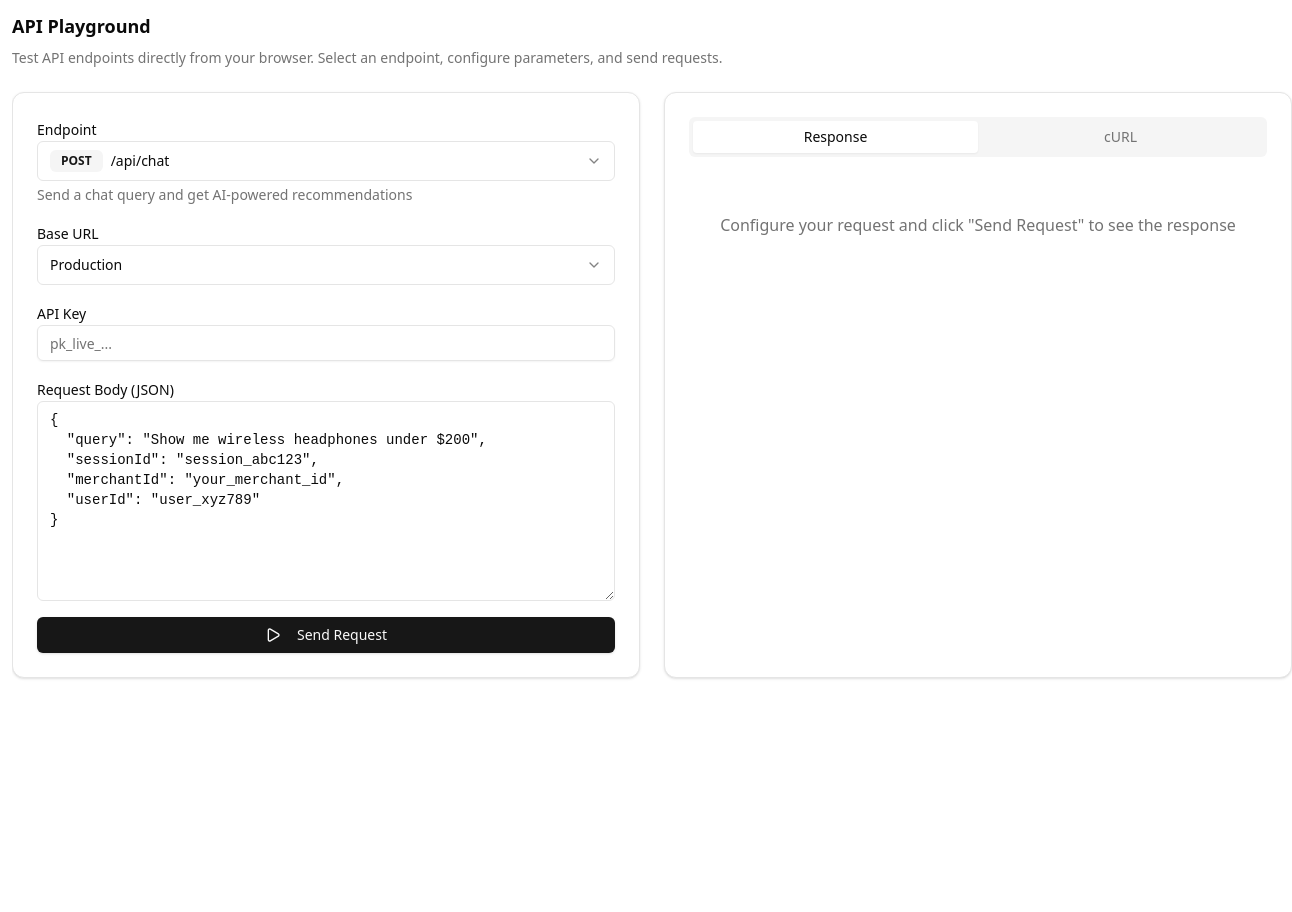
Test: ApiPlayground › handles successful API request
The image size is (1292, 912).
Fill in API key
Type "pk_test_123" into the password field labelled "API Key" at (326, 343), box 37,325 -> 615,361
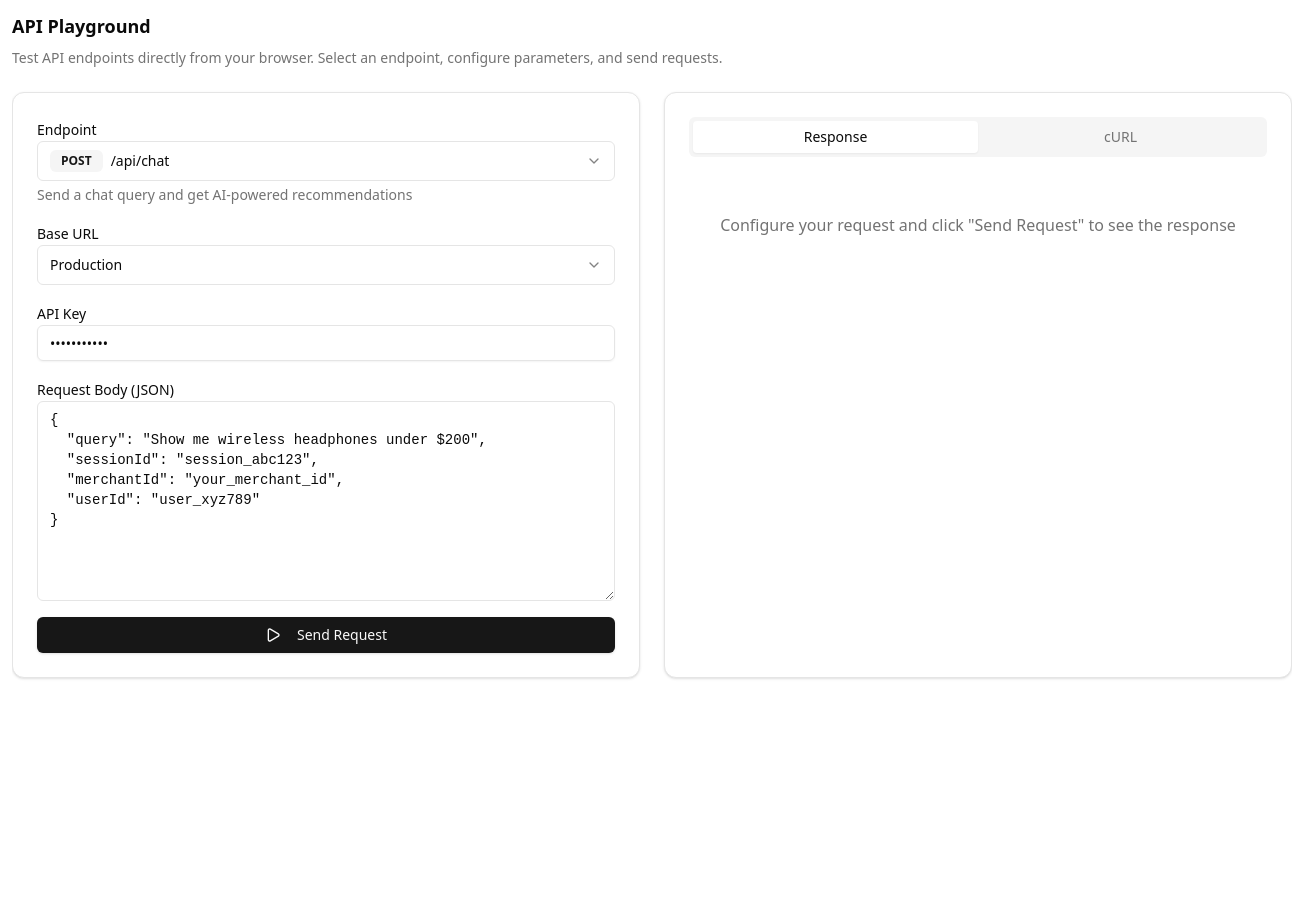
Click send request
Click the button "Send Request" at (326, 635), box 37,617 -> 615,653
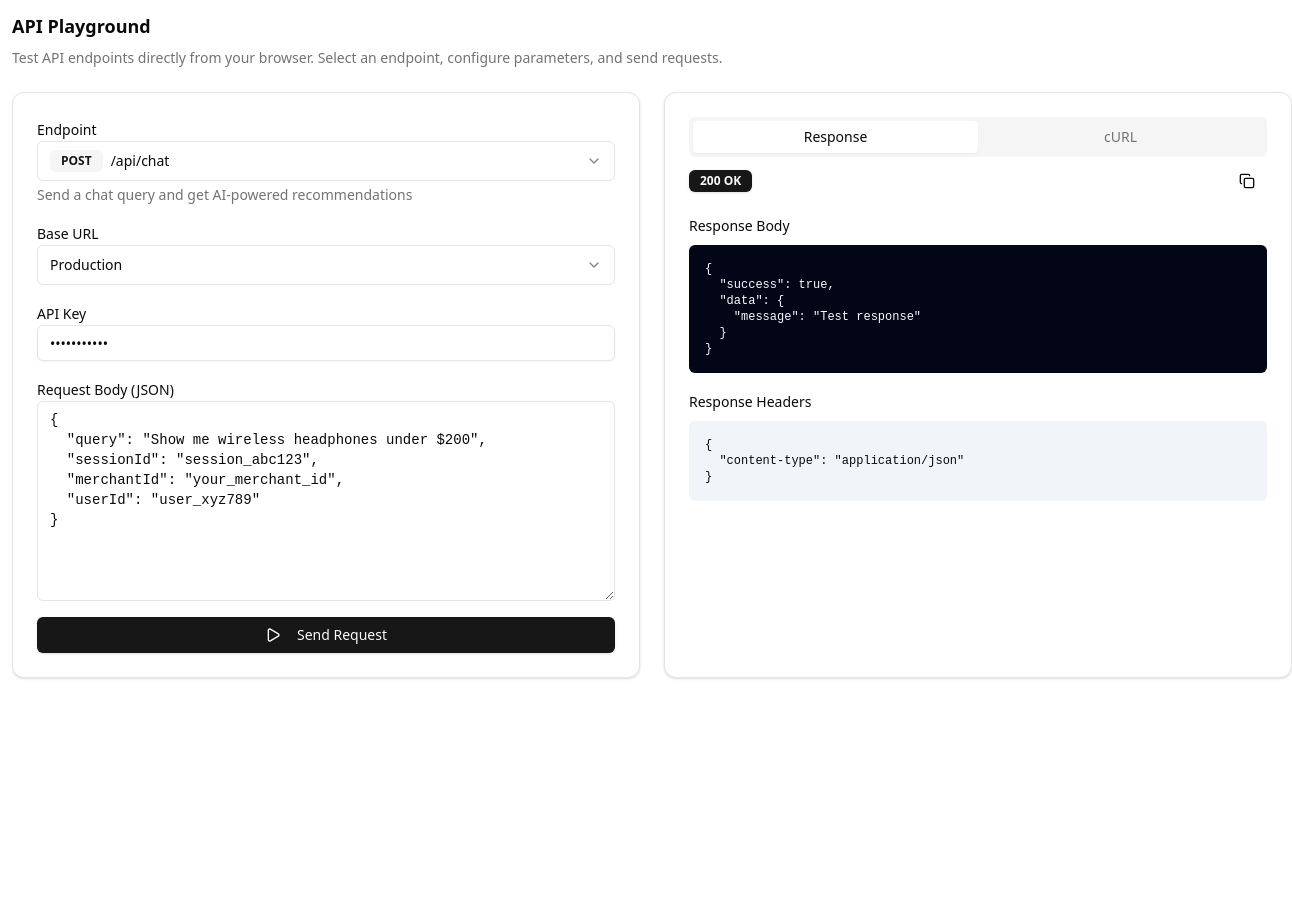
Result: the text "200 OK" is shown at 689,170 -> 752,192
Result: the text "{ \"success\": true, \"data\": { \"message\": \"Test response\" } }" is shown at 689,245 -> 1267,373
